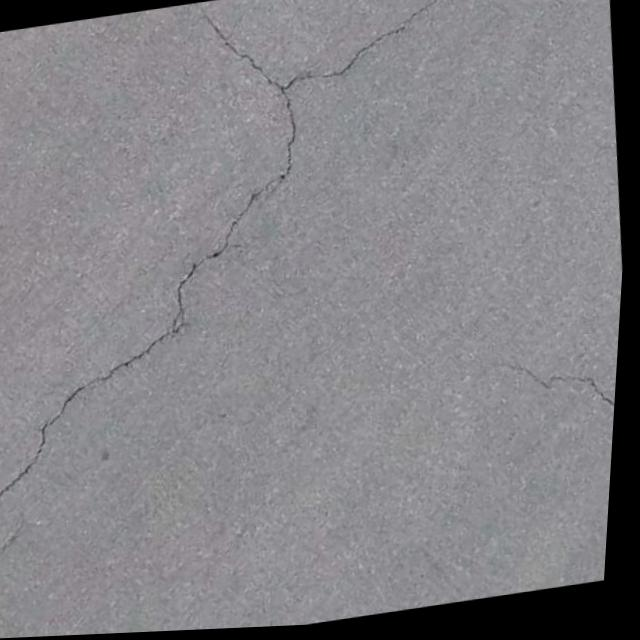Crack: (147, 130, 331, 341), (211, 0, 470, 124), (0, 339, 163, 515), (478, 303, 625, 464)
